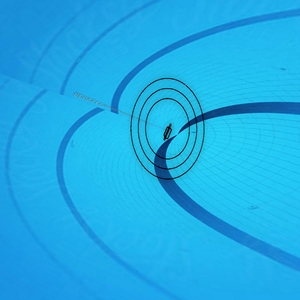circle: (127, 76, 206, 183)
submarine: (161, 123, 175, 140)
